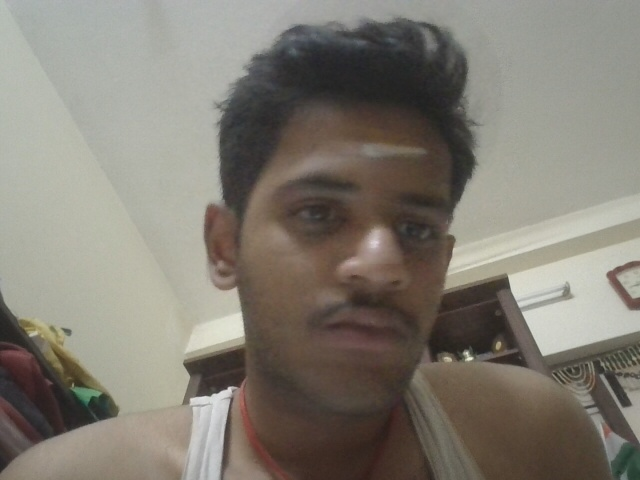real: (214, 96, 521, 403)
